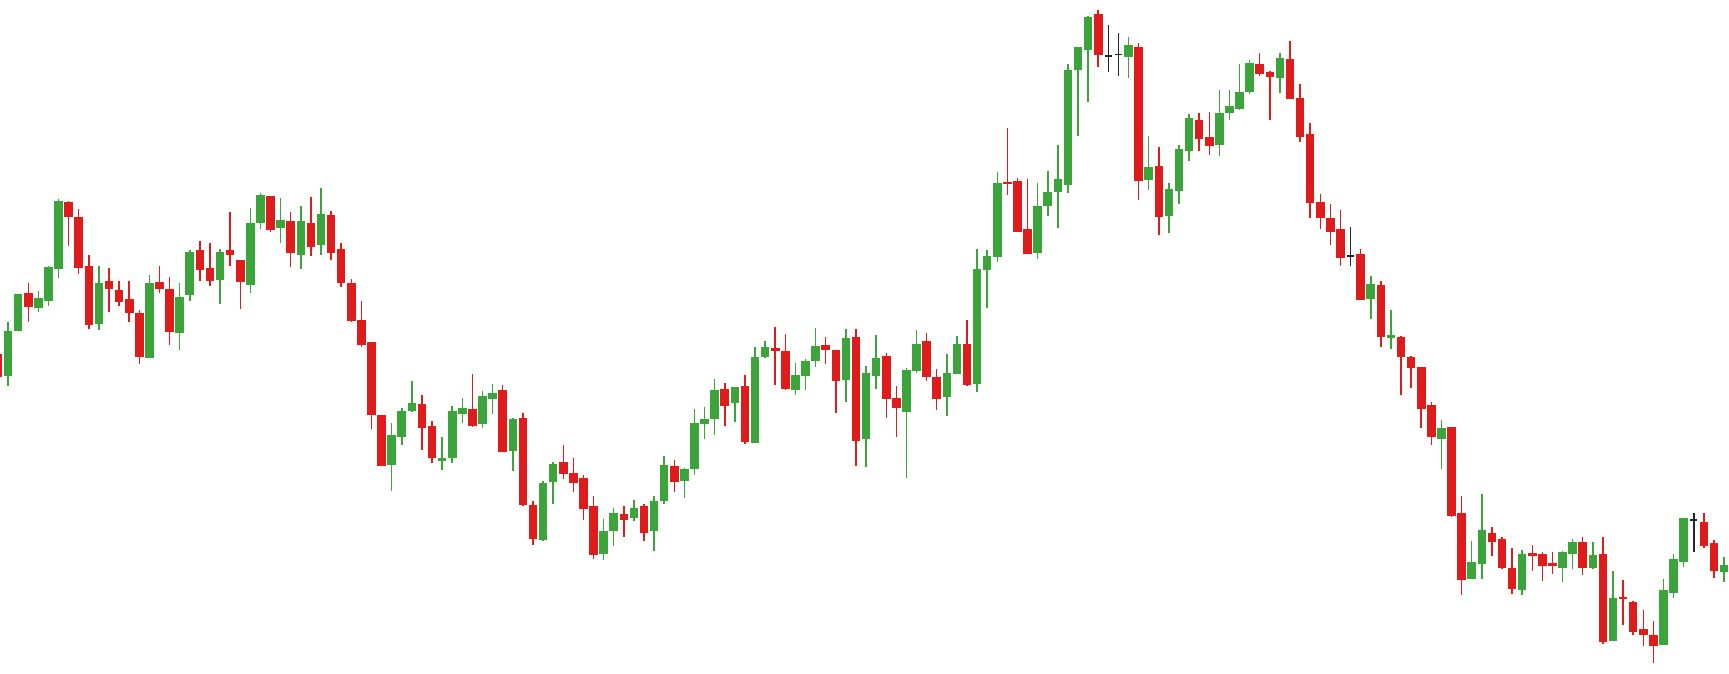buy: (737, 363, 876, 470), (529, 480, 610, 561)
sell: (405, 366, 477, 442)
